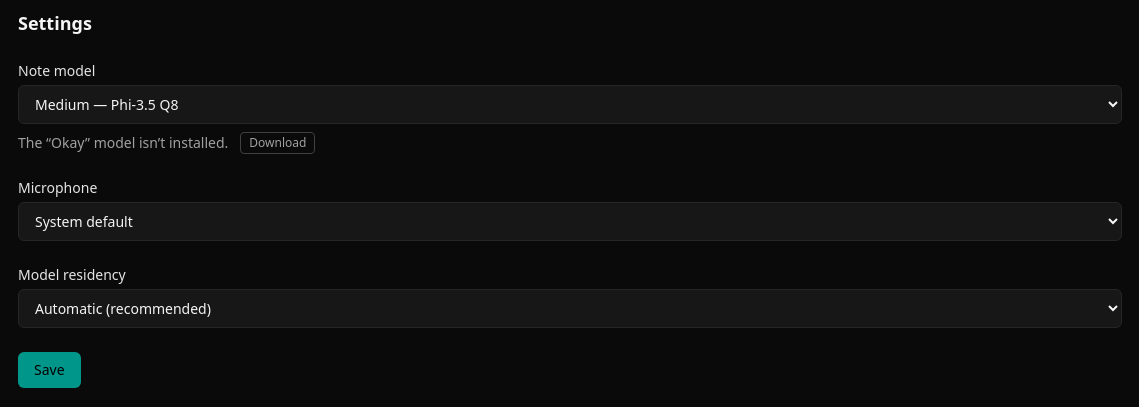
Test: SettingsView › saves edits, preserving internal keys (read-modify-write)
Step 1. Select "Best — Mistral-7B (most accurate, needs the most RAM)" in the dropdown labelled "Note model" → (570, 104), box [18, 85, 1122, 124]
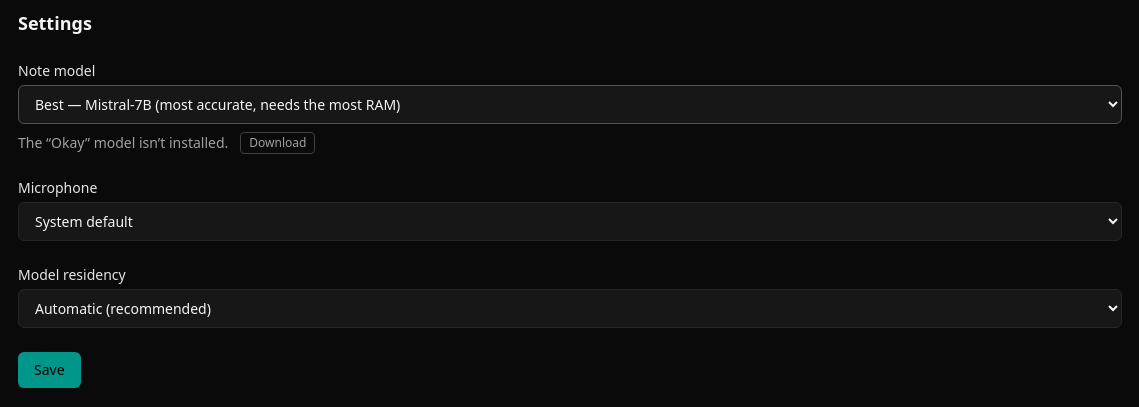
Step 2. Click the button "Save" → (49, 370), box [18, 352, 81, 388]
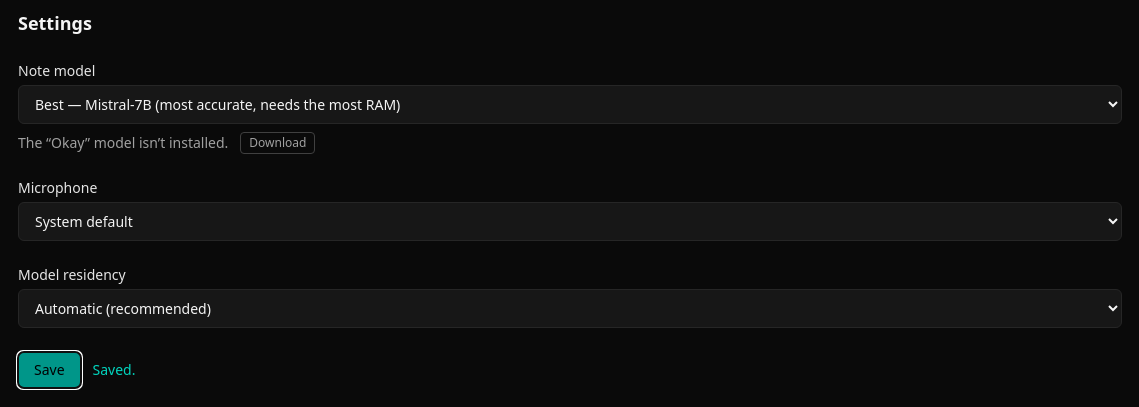
Expected: the text "Saved." is shown, [93, 360, 136, 380]
